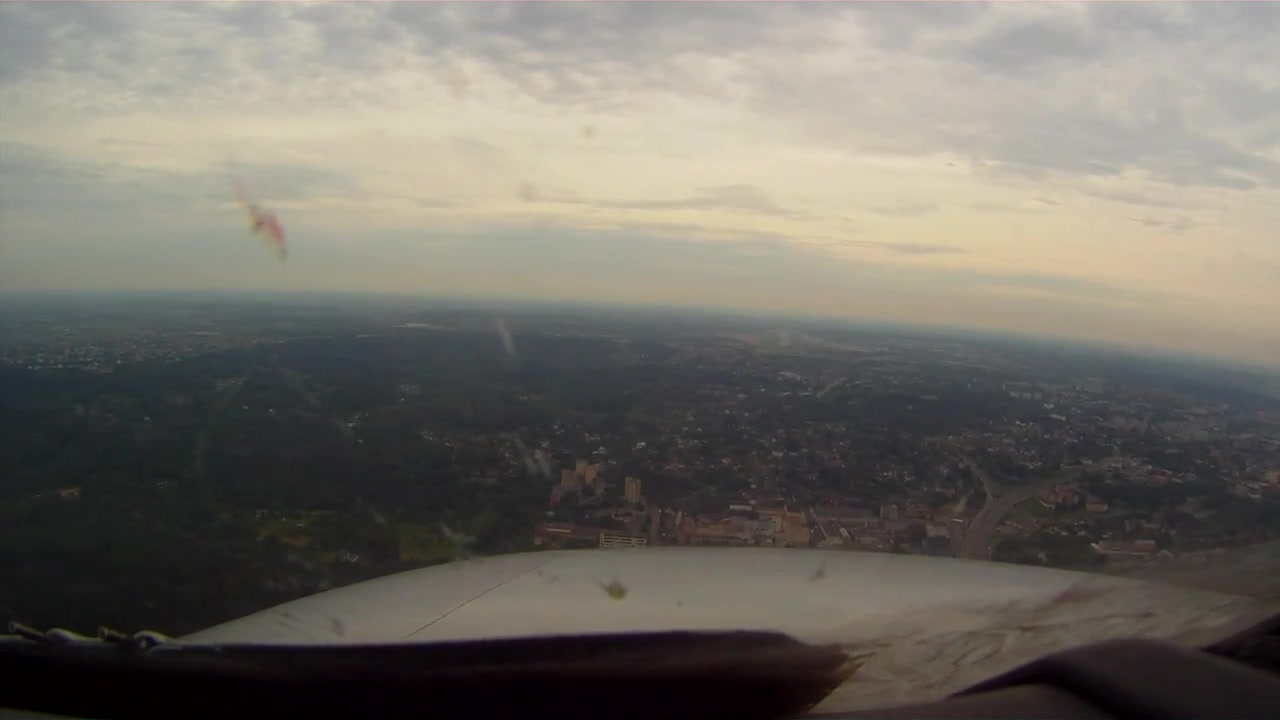runway: (778, 330, 791, 350)
